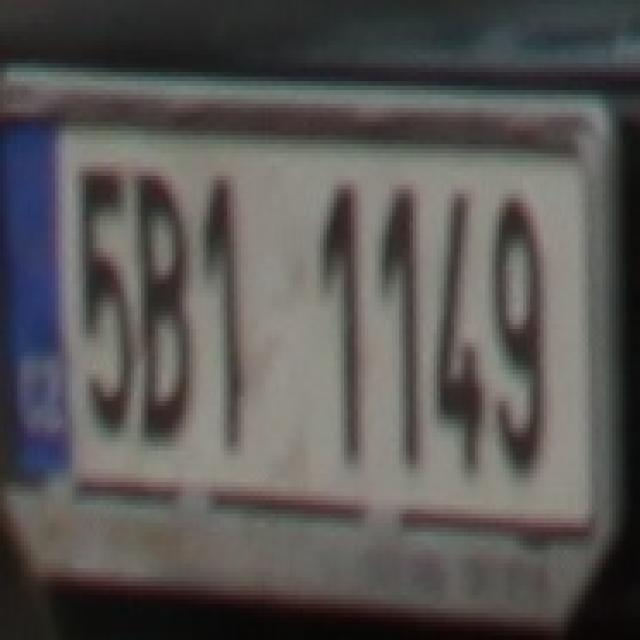1: (194, 171, 250, 455), (313, 178, 368, 467), (375, 185, 423, 469)
4: (430, 185, 485, 473)
5: (70, 162, 132, 437)
9: (487, 196, 549, 476)
B: (129, 169, 194, 448)
